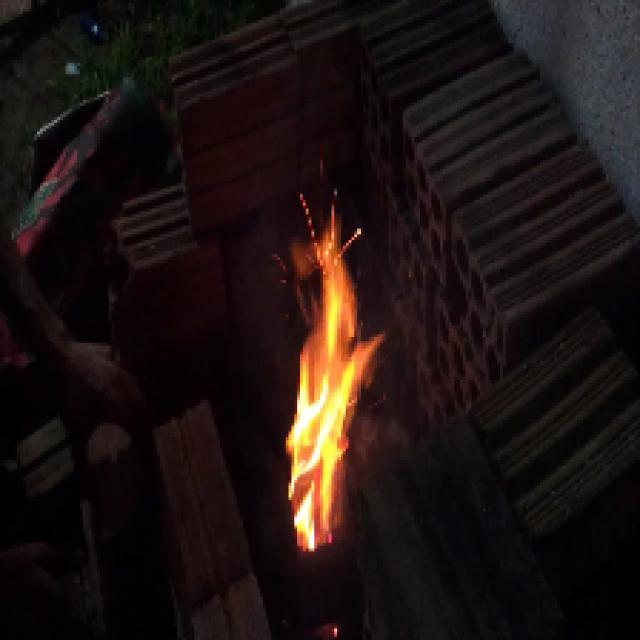Fire: (277, 222, 360, 538)
